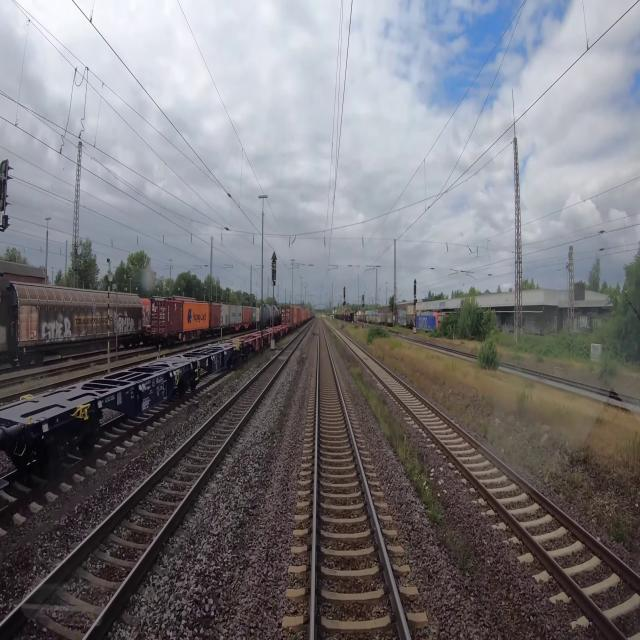Plant: (347, 360, 443, 522), (445, 521, 474, 580), (476, 352, 499, 372), (367, 327, 389, 346), (517, 388, 534, 412)
